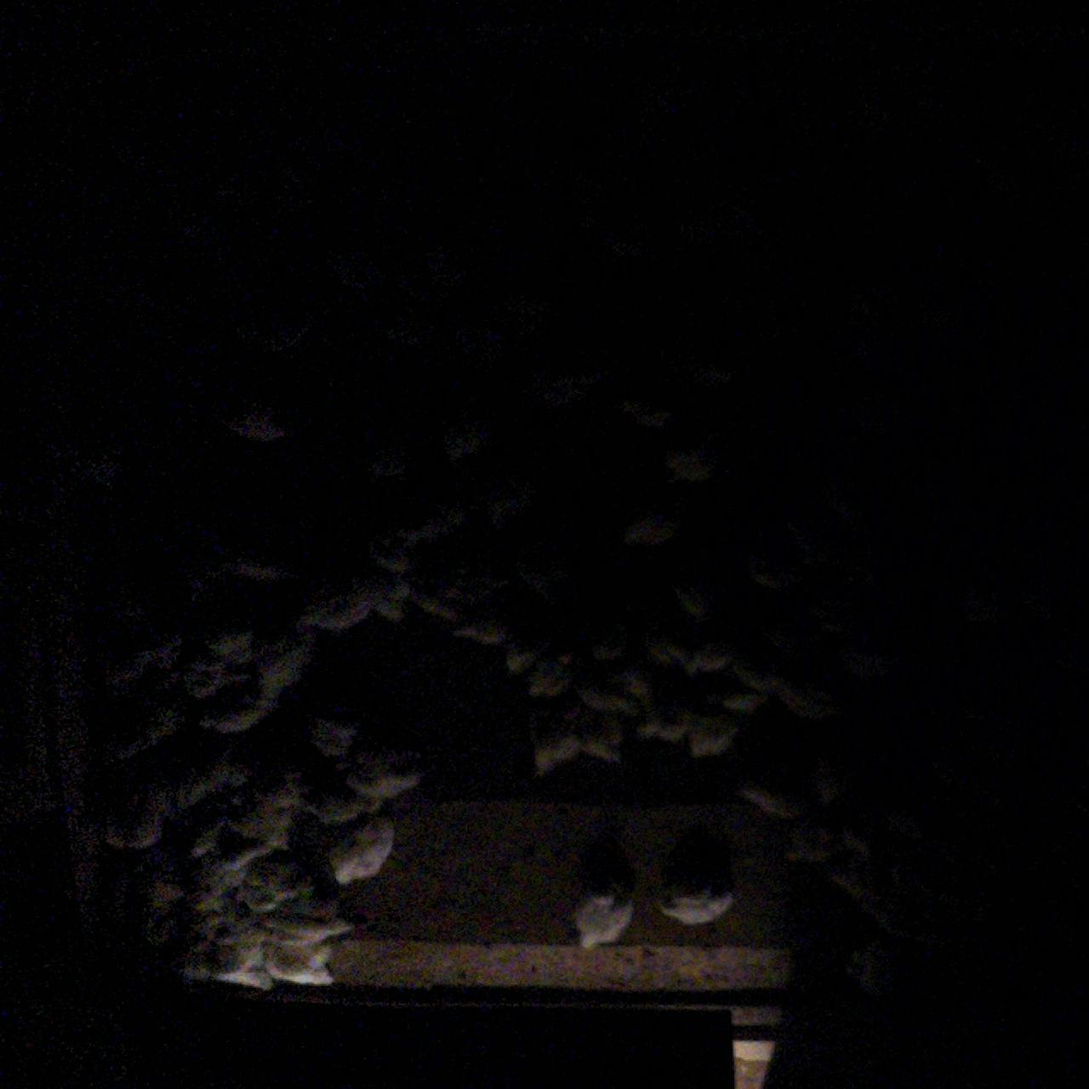chicken: (823, 835, 899, 933), (652, 843, 736, 928), (191, 920, 277, 995), (248, 619, 316, 711), (65, 429, 152, 500), (101, 699, 178, 777), (233, 847, 318, 917), (100, 779, 174, 854), (328, 812, 401, 887), (171, 750, 250, 818), (340, 743, 426, 802), (297, 771, 386, 828), (197, 811, 275, 873), (570, 887, 636, 960), (113, 630, 191, 691), (263, 932, 342, 989), (527, 704, 582, 782), (147, 870, 194, 959), (650, 633, 738, 677), (584, 681, 644, 745), (739, 773, 815, 823), (293, 586, 372, 632), (634, 693, 696, 750), (193, 698, 280, 736), (396, 502, 470, 546), (579, 708, 629, 771), (772, 680, 837, 723), (233, 399, 286, 449), (687, 712, 741, 761), (309, 712, 367, 756), (527, 649, 576, 700), (782, 818, 844, 858), (205, 621, 266, 660), (417, 584, 469, 628), (356, 444, 414, 482), (810, 757, 850, 812), (620, 514, 682, 547), (840, 814, 878, 863), (613, 659, 657, 700), (667, 449, 718, 483), (231, 556, 290, 585), (736, 653, 777, 694), (443, 428, 492, 462), (626, 396, 674, 430), (501, 639, 540, 680), (716, 687, 767, 718), (455, 619, 507, 645), (490, 492, 527, 527), (752, 567, 785, 595), (676, 588, 705, 617)
